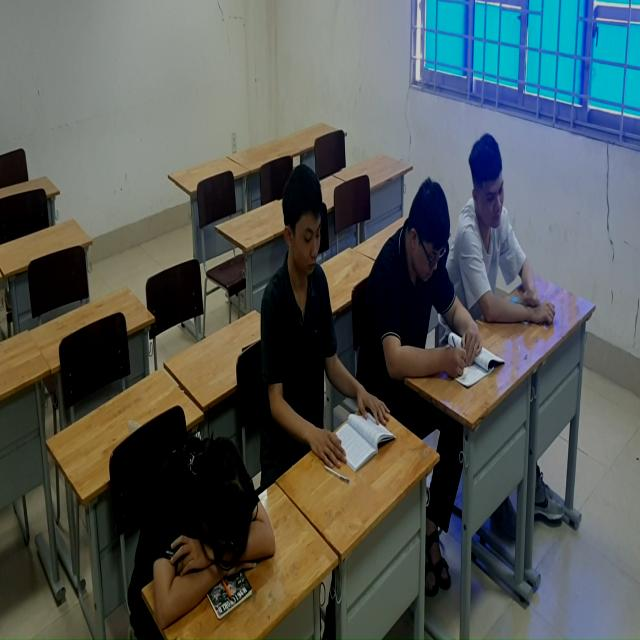read: (252, 162, 397, 483), (373, 178, 485, 425), (454, 129, 568, 350)
sleep: (124, 439, 295, 640)
